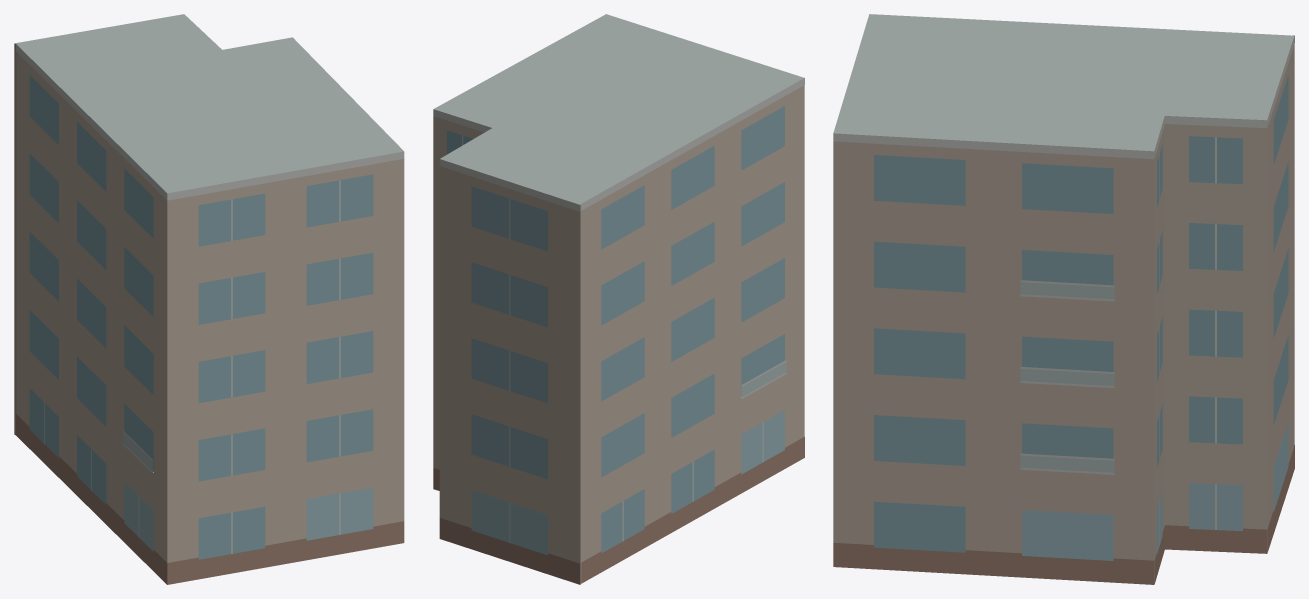
The model's file is survey-upis-32998212.glb.
The picture shows the model from 3 angles, left to right: view 1: azimuth 30°, elevation 25°; view 2: azimuth 150°, elevation 25°; view 3: azimuth 270°, elevation 25°; orthographic projection. The views are drawn at different scales.
Parts seen in each view (by area): view 1: survey-upis-32998212.tmp; view 2: survey-upis-32998212.tmp; view 3: survey-upis-32998212.tmp.
Part boxes in pixels (x1=…): survey-upis-32998212.tmp: x1=14, y1=14, x2=404, y2=584; survey-upis-32998212.tmp: x1=433, y1=14, x2=804, y2=584; survey-upis-32998212.tmp: x1=833, y1=14, x2=1294, y2=584.
Bounding box in the file's own units: 8.98 × 13.2 × 12.74.
